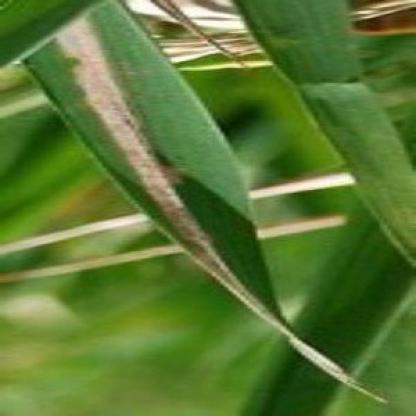Blight: (45, 9, 262, 309)
